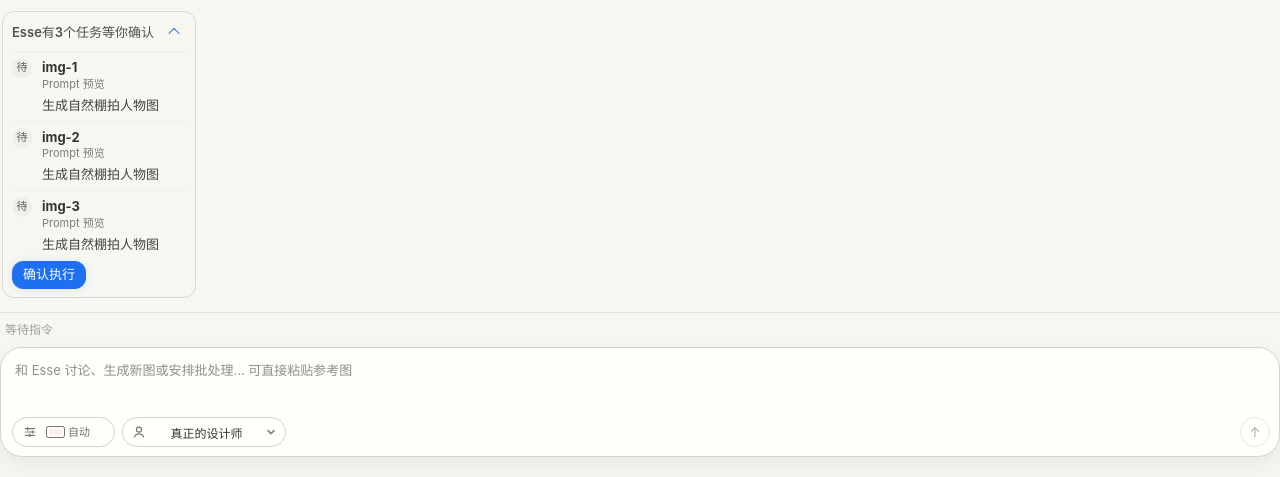
Test: ProjectPlanPanel plan cards › collapses and expands the current batch confirmation card
Expected: the text "Prompt 预览" is shown 3 times, [42,77,105,91]; [42,146,105,160]; [42,216,105,230]
Click the button named "收起方案" at [174, 32], box [162,20,186,44]
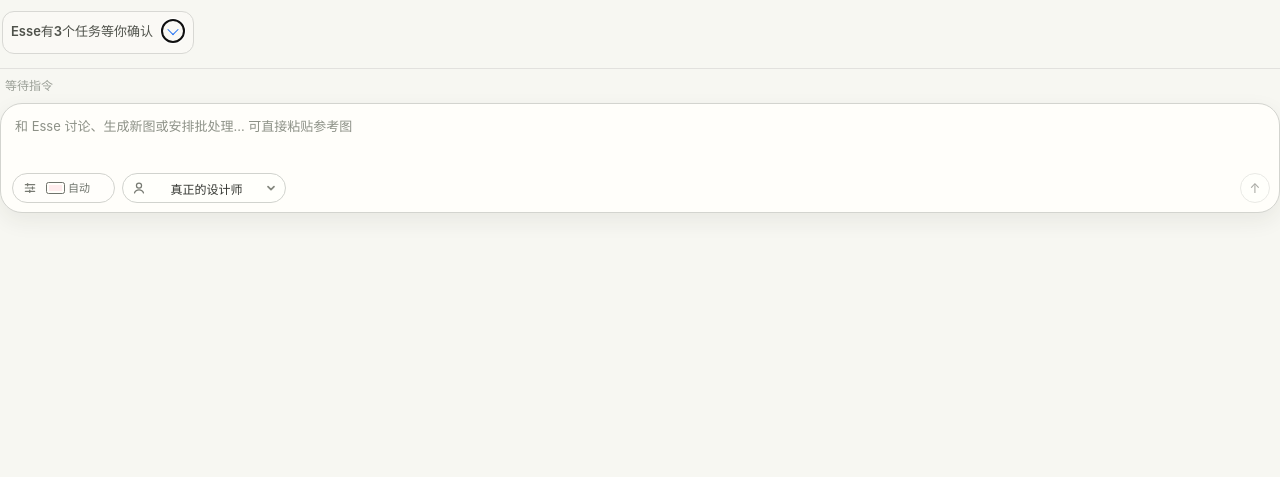
Result: the text "Prompt 预览" is not shown
Click the button named "展开方案" at [173, 31], box [161,19,185,43]
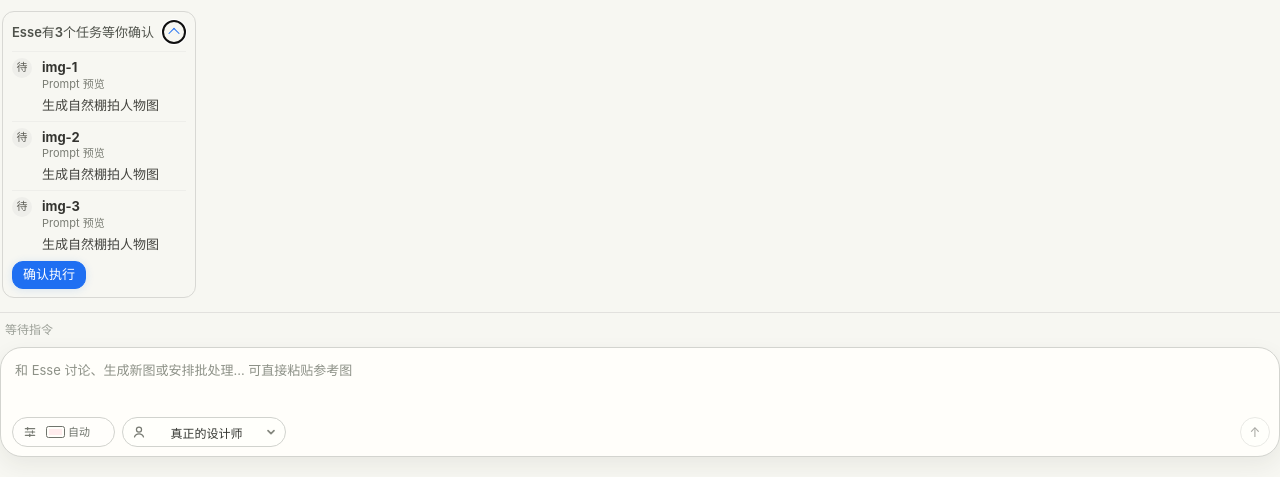
Result: the text "Prompt 预览" is shown 3 times at [42,77,105,91]; [42,146,105,160]; [42,216,105,230]
